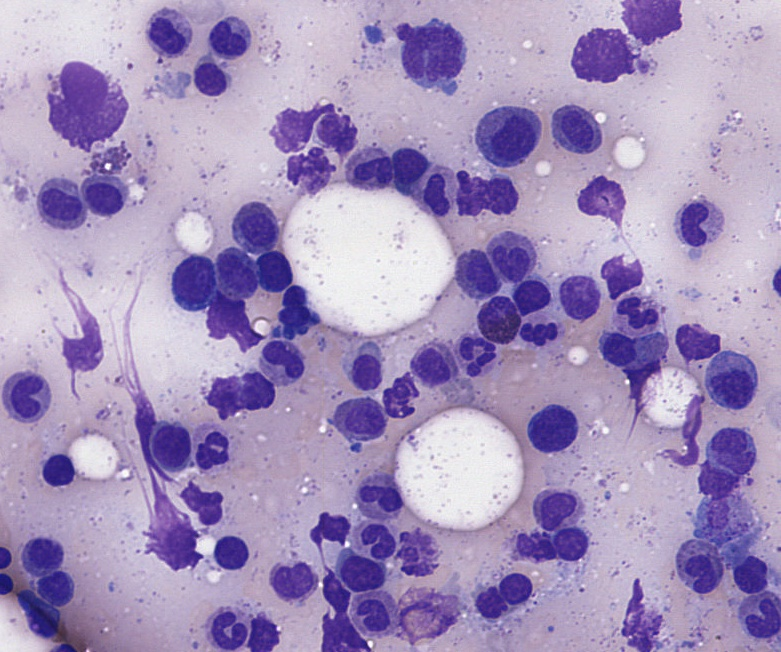objectness: (707, 427, 757, 477), (450, 327, 500, 377), (608, 290, 658, 340), (187, 423, 237, 473), (350, 514, 400, 564), (512, 305, 562, 355), (410, 339, 460, 389), (230, 204, 280, 254), (550, 105, 600, 155), (336, 392, 386, 442), (32, 176, 82, 226), (473, 294, 523, 344), (345, 143, 395, 193), (143, 5, 193, 55), (352, 469, 402, 519), (451, 251, 501, 301), (255, 336, 305, 386), (204, 10, 254, 60), (490, 234, 540, 284), (672, 199, 722, 249), (349, 590, 399, 640), (674, 544, 724, 594), (411, 166, 461, 216), (525, 402, 575, 452), (170, 257, 220, 307), (530, 480, 580, 530), (202, 371, 252, 421), (576, 29, 626, 79), (697, 493, 747, 543), (74, 168, 124, 218), (309, 570, 359, 620), (373, 374, 423, 424), (388, 530, 438, 580), (261, 98, 311, 148), (268, 554, 318, 604), (690, 456, 740, 506), (10, 588, 60, 638), (507, 524, 557, 574), (114, 382, 164, 432), (545, 522, 595, 572), (304, 105, 354, 155), (400, 587, 450, 637), (57, 324, 107, 374), (727, 550, 777, 600), (505, 270, 555, 320), (305, 504, 355, 554), (666, 405, 716, 455), (606, 326, 656, 376), (56, 55, 106, 105), (268, 294, 318, 344), (206, 524, 256, 574), (186, 53, 236, 103), (467, 576, 517, 626), (477, 172, 527, 222), (32, 560, 82, 610), (406, 24, 456, 74), (81, 136, 131, 186), (228, 370, 278, 420), (269, 271, 319, 321), (279, 143, 329, 193), (579, 173, 629, 223), (60, 96, 110, 146), (489, 564, 539, 614), (556, 270, 606, 320), (144, 514, 194, 564), (179, 476, 229, 526), (671, 316, 721, 366), (443, 168, 493, 218), (612, 360, 662, 410), (13, 529, 63, 579), (596, 249, 646, 299), (380, 143, 430, 193), (246, 245, 296, 295), (341, 344, 391, 394), (330, 548, 380, 598), (482, 107, 532, 157), (201, 605, 251, 652), (0, 371, 47, 421), (738, 594, 781, 644), (316, 611, 366, 652), (625, 0, 675, 41), (234, 611, 284, 652)
